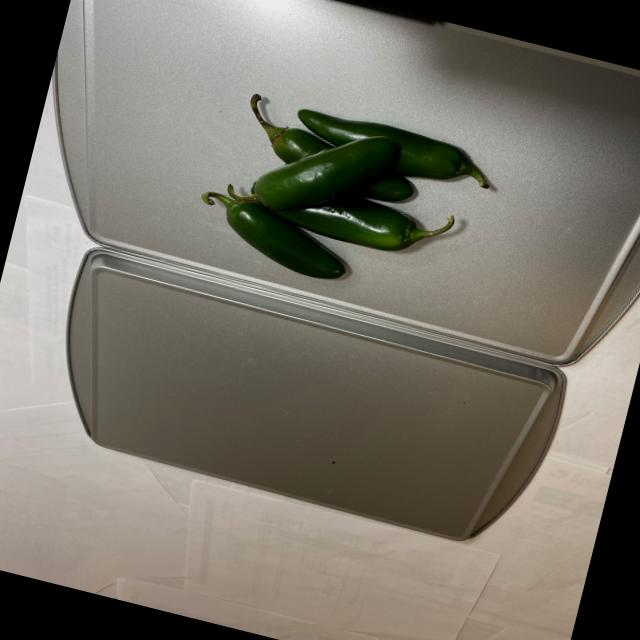chilli: (192, 90, 494, 321)
